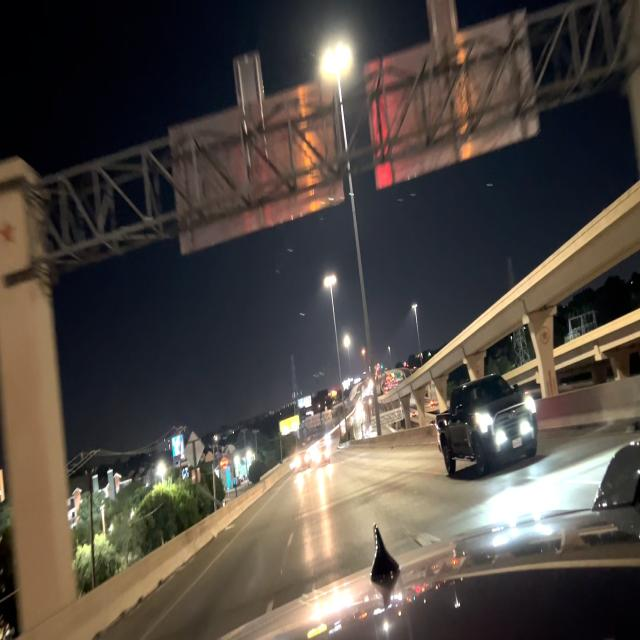back-of-sign: (166, 50, 346, 257), (362, 3, 541, 194), (184, 429, 204, 477), (304, 411, 334, 430)
